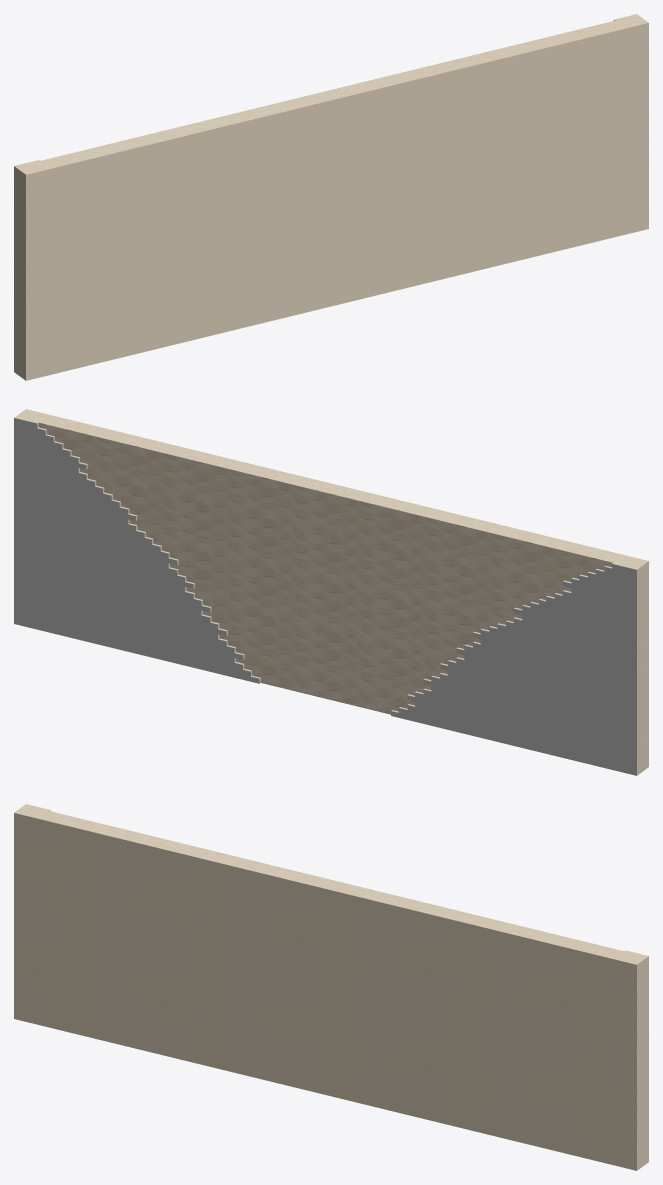
File: InteriorWall2F.FBX
3 views of the same model, one above another, from view 1: azimuth 30°, elevation 25°; view 2: azimuth 150°, elevation 25°; view 3: azimuth 330°, elevation 25° (orthographic).
Parts seen in each view (by area): view 1: InteriorWall2F; view 2: InteriorWall2F, InteriorWall2F01; view 3: InteriorWall2F.
Boxes of the visible parts, left/top/right/bottom form: InteriorWall2F: left=15, top=15, right=648, bottom=380; InteriorWall2F: left=15, top=409, right=648, bottom=774; InteriorWall2F01: left=14, top=417, right=638, bottom=775; InteriorWall2F: left=14, top=805, right=647, bottom=1170.
Bounding box in the file's own units: 472 × 149 × 15.88.
